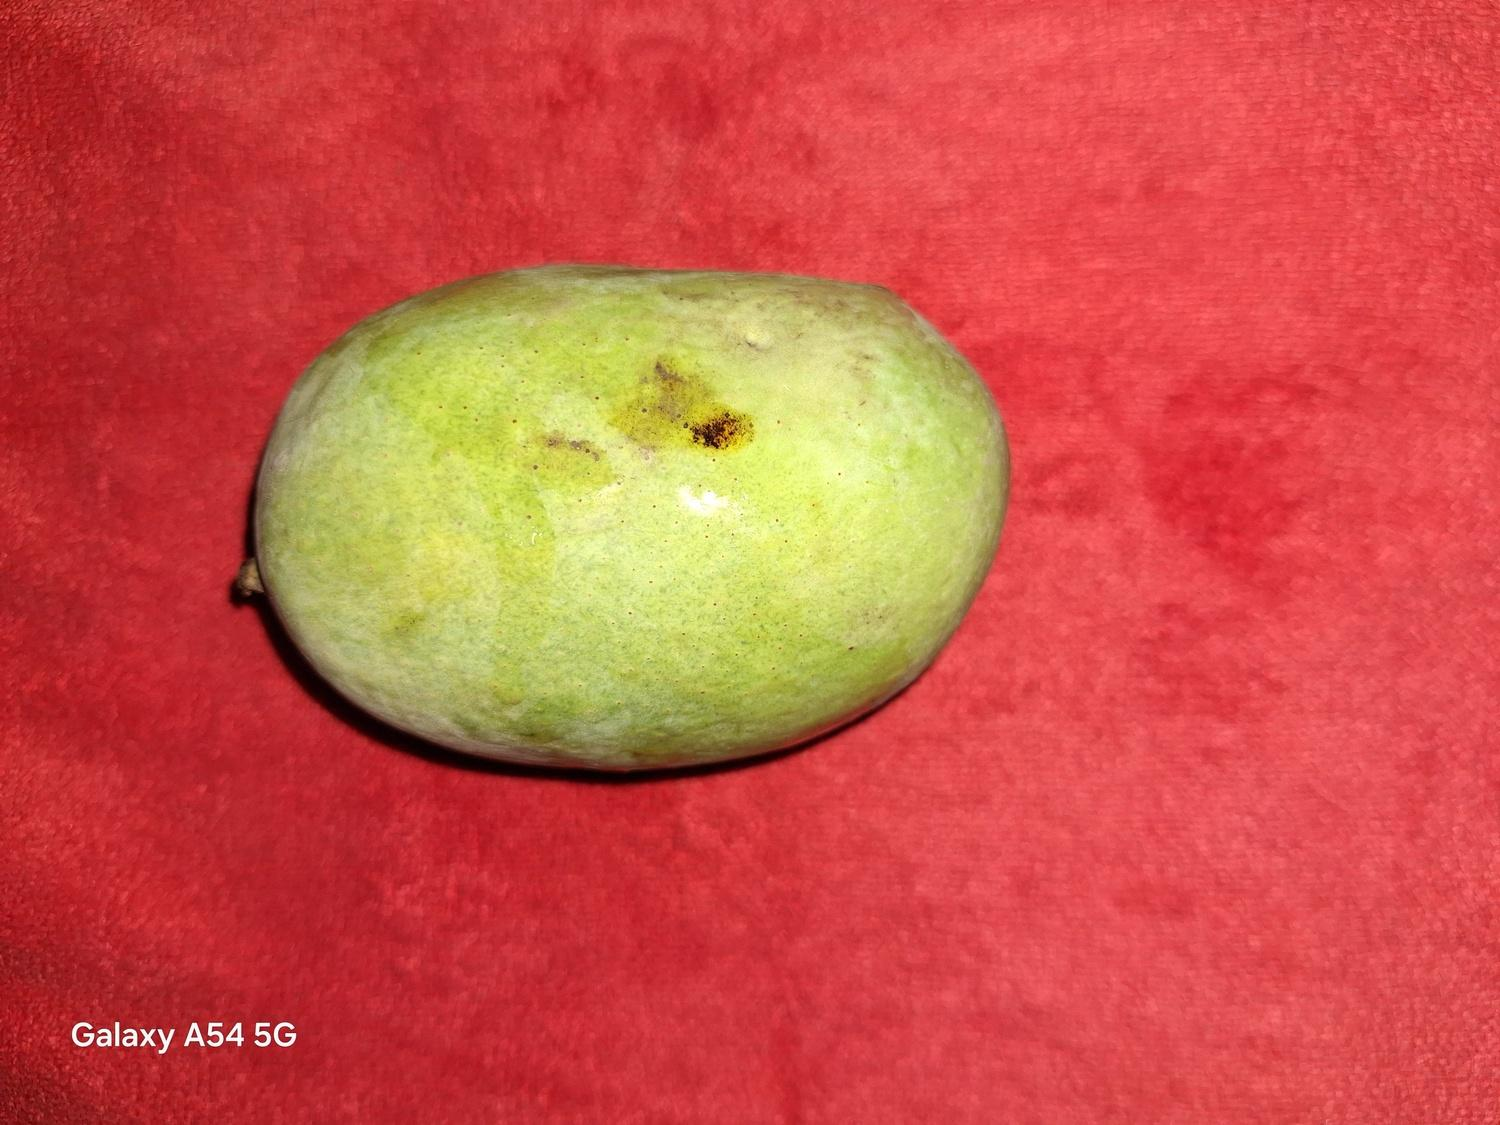mango: (231, 260, 1012, 774)
